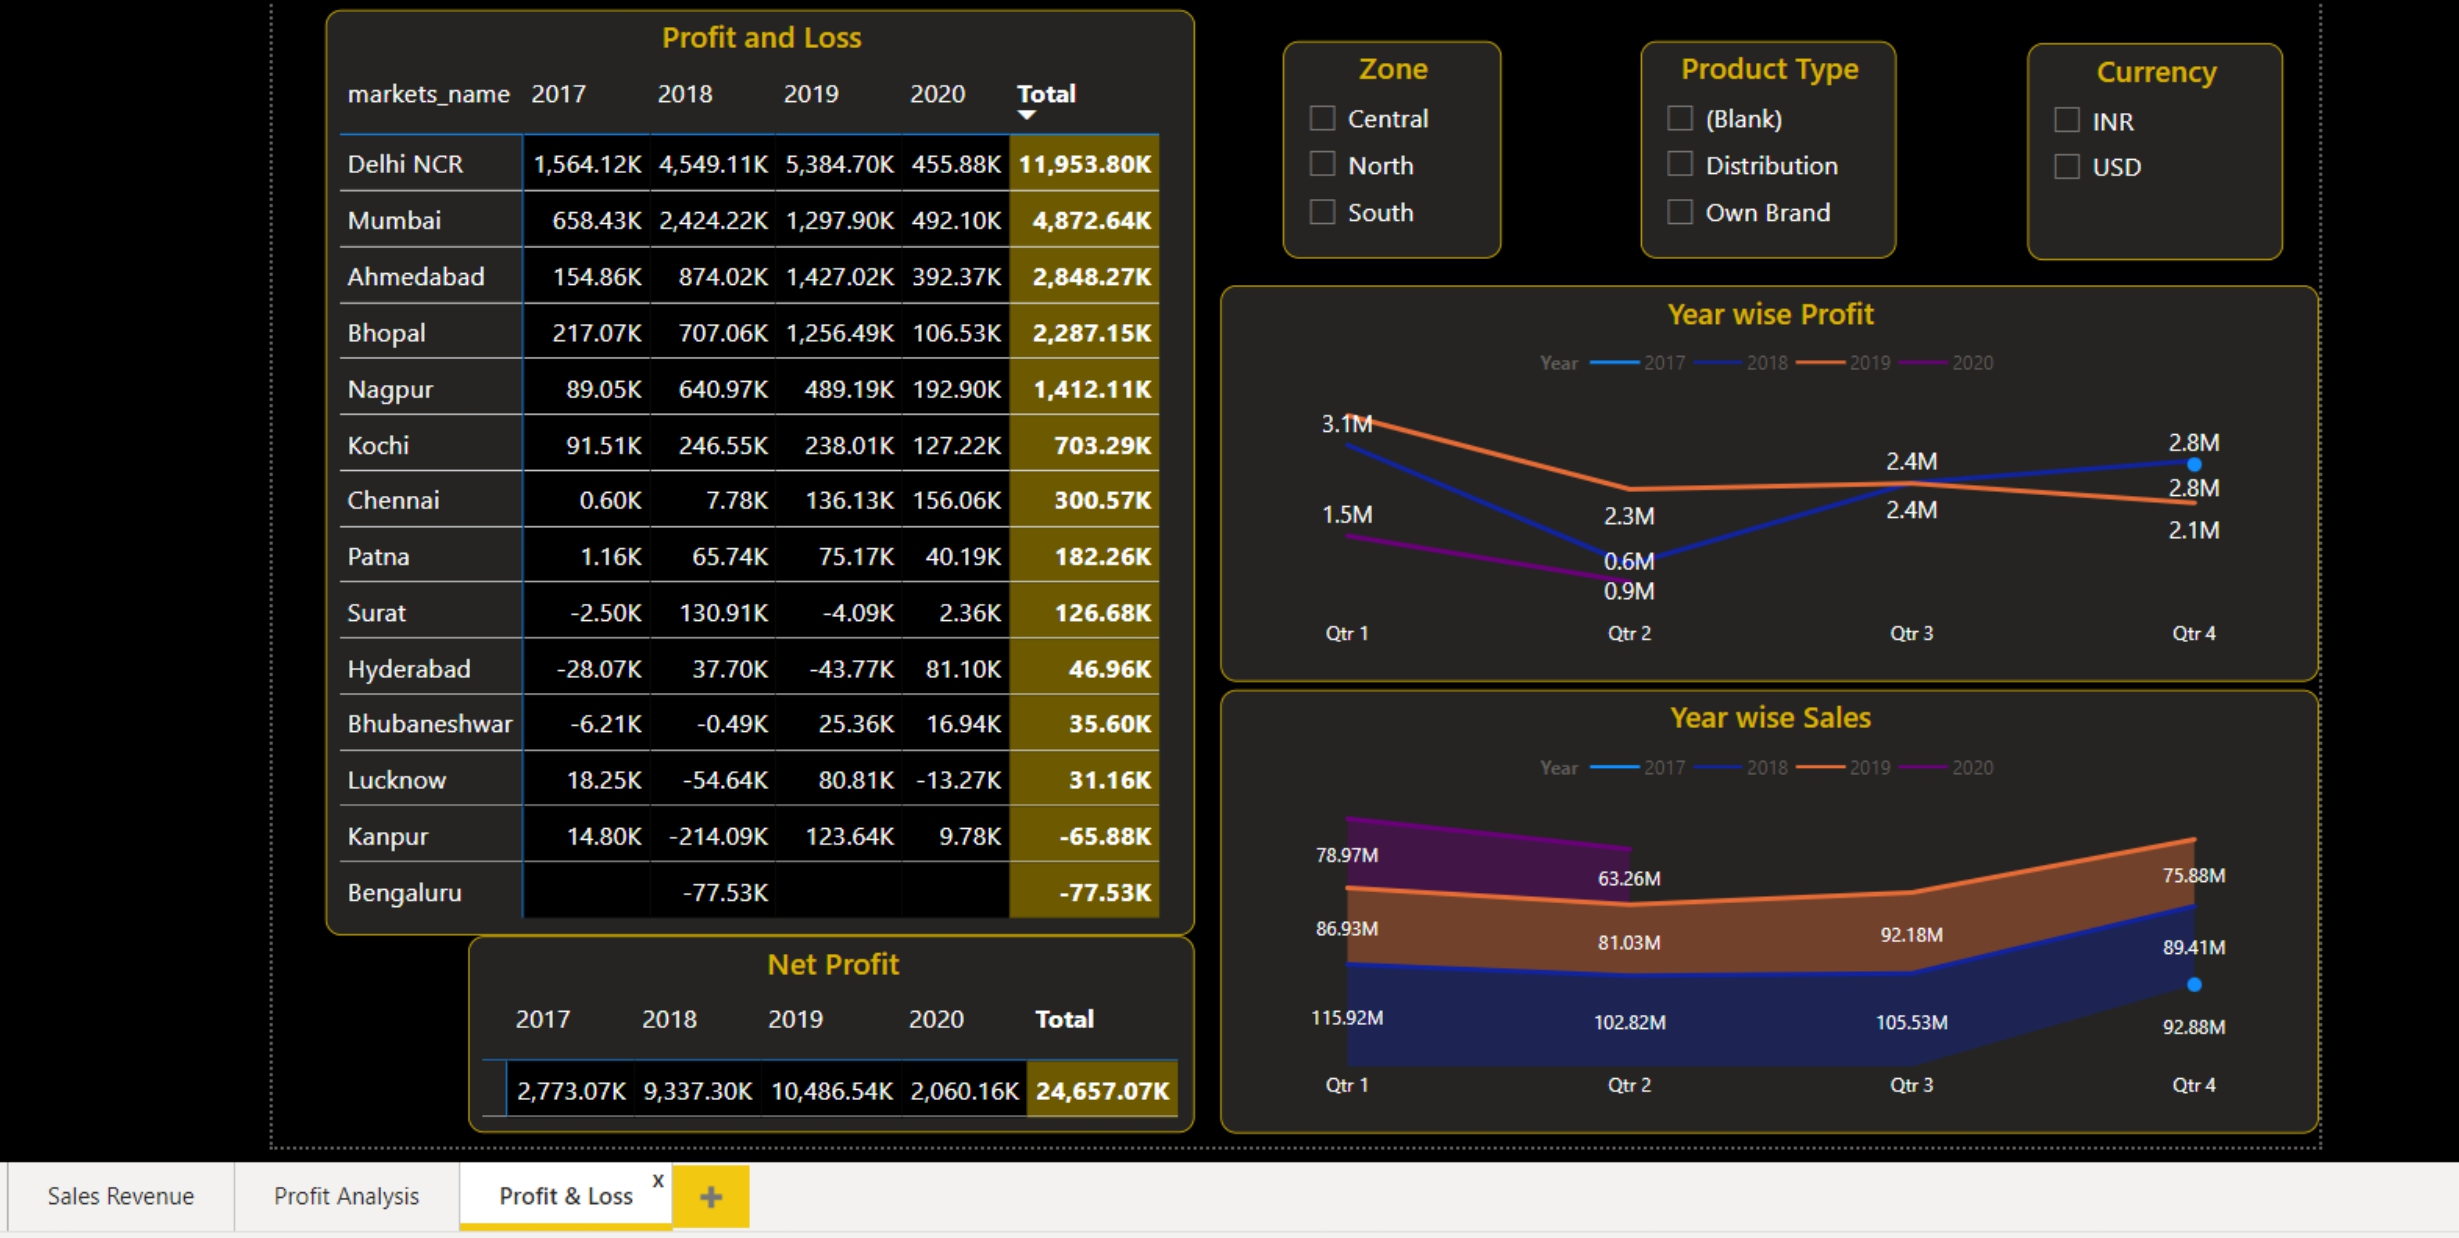

This screenshot's page, from the dashboard's own definition file:
{"tool":"powerbi","page":{"name":"Profit & Loss","canvas":[1280,720],"ordinal":2},"visuals":[{"type":"pivotTable","title":"Profit and Loss","fields":{"Columns":["date.cy_date.Variation.Date Hierarchy.Year","date.cy_date.Variation.Date Hierarchy.Quarter","date.cy_date.Variation.Date Hierarchy.Month","date.cy_date.Variation.Date Hierarchy.Day"],"Rows":["markets.markets_name"],"Values":["Sum(transactions.profit_margin)"]},"box":[33,8.6,544,579.4],"z":0},{"type":"slicer","title":"Product Type","fields":{"Values":["products.product_type"]},"box":[855.7,28.1,160.1,135.7],"z":1000},{"type":"slicer","title":"Zone","fields":{"Values":["markets.zone"]},"box":[632,28.1,136.9,135.7],"z":2000},{"type":"pivotTable","title":"Net Profit","fields":{"Columns":["date.cy_date.Variation.Date Hierarchy.Year","date.cy_date.Variation.Date Hierarchy.Quarter","date.cy_date.Variation.Date Hierarchy.Month","date.cy_date.Variation.Date Hierarchy.Day"],"Values":["Sum(transactions.profit_margin)"]},"box":[122.2,588,454.7,123.5],"z":3000},{"type":"lineChart","title":"Year wise Profit","fields":{"Category":["date.cy_date.Variation.Date Hierarchy.Quarter","date.cy_date.Variation.Date Hierarchy.Month","date.cy_date.Variation.Date Hierarchy.Day"],"Series":["date.cy_date.Variation.Date Hierarchy.Year"],"Y":["Sum(transactions.profit_margin)"]},"box":[592.9,180.9,687,248.1],"z":4000},{"type":"stackedAreaChart","title":"Year wise Sales","fields":{"Category":["date.cy_date.Variation.Date Hierarchy.Quarter","date.cy_date.Variation.Date Hierarchy.Month","date.cy_date.Variation.Date Hierarchy.Day","date.cy_date.Variation.Date Hierarchy.Year"],"Y":["Sum(transactions.sales_amount)"],"Series":["date.cy_date.Variation.Date Hierarchy.Year"]},"box":[592.9,434,687,277.5],"z":5000},{"type":"slicer","title":"Currency","fields":{"Values":["transactions.currency"]},"box":[1097.7,29.3,160.1,135.7],"z":6000}]}

Visuals, with their boxes on the page's 1280x720 design canvas (x1, y1, x2, y2). These are canvas units, not pixel positions in the 2459x1238 screenshot, which may show the page scaled, cropped or inside an application window:
"Profit and Loss" pivotTable: (33, 9, 577, 588)
"Product Type" slicer: (856, 28, 1016, 164)
"Zone" slicer: (632, 28, 769, 164)
"Net Profit" pivotTable: (122, 588, 577, 712)
"Year wise Profit" lineChart: (593, 181, 1280, 429)
"Year wise Sales" stackedAreaChart: (593, 434, 1280, 712)
"Currency" slicer: (1098, 29, 1258, 165)
